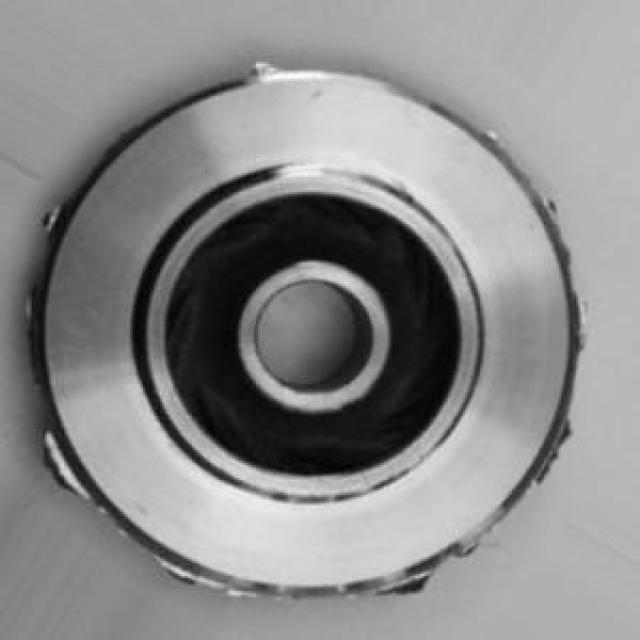Defect: (29, 195, 70, 240)
